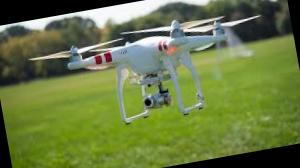drone: (45, 0, 261, 132)
